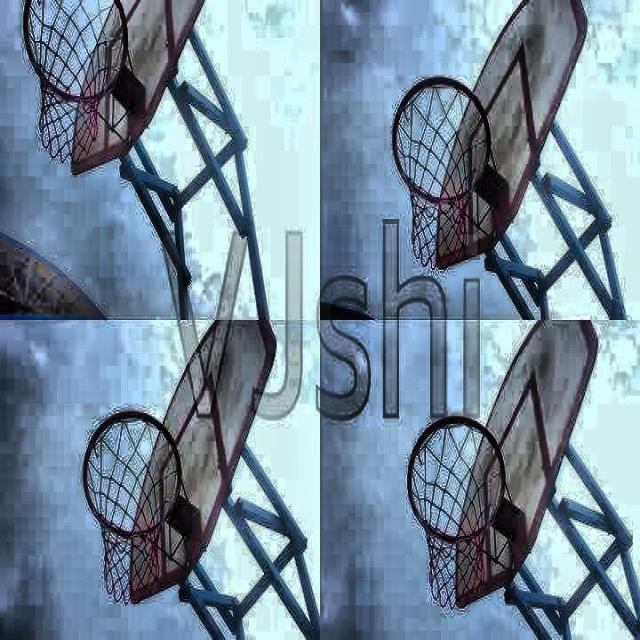rim: (392, 76, 491, 272), (84, 411, 182, 606), (408, 415, 504, 603), (24, 0, 129, 159)
